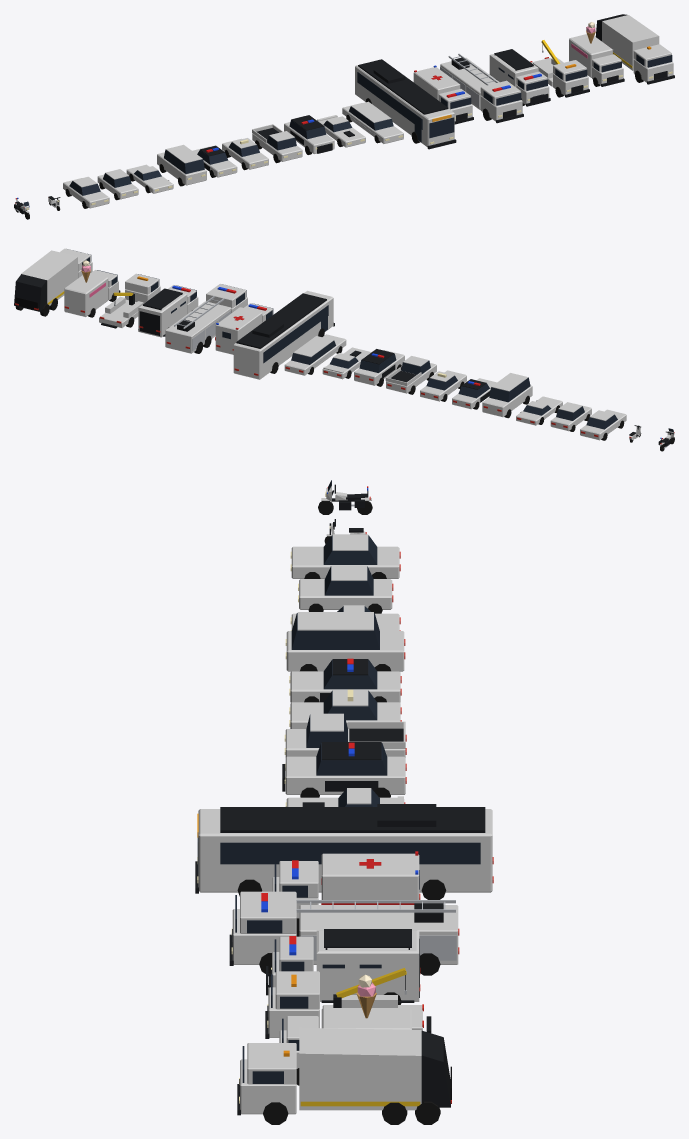
The model's file is vehicles.glb.
The picture shows the model from 3 angles, top to bottom: view 1: azimuth 30°, elevation 25°; view 2: azimuth 150°, elevation 25°; view 3: azimuth 270°, elevation 25°; orthographic projection. The views are drawn at different scales.
Parts seen in each view (by area): view 1: bus_body, garbage_truck_body, bus_roof, ice_cream_van_module, ambulance_module, firetruck_body, swat_body, bus_windows_R, limo_body, van_body, firetruck_cab, sports_body (+20 smaller); view 2: bus_body, garbage_truck_body, ice_cream_van_module, firetruck_body, bus_roof, ambulance_module, swat_body, garbage_truck_hopper, bus_windows_R, van_body, limo_body, firetruck_cabtop (+18 smaller); view 3: garbage_truck_body, bus_body, bus_roof, bus_windows_L, ambulance_module, swat_body, firetruck_body, police_suv_body, van_body, garbage_truck_hopper, firetruck_cabtop, compact_body (+17 smaller).
Part boxes in pixels (bbox=[...]): bus_body: bbox=[355, 65, 454, 146]; garbage_truck_body: bbox=[602, 15, 659, 70]; bus_roof: bbox=[358, 59, 448, 114]; ice_cream_van_module: bbox=[569, 34, 612, 77]; ambulance_module: bbox=[413, 67, 460, 100]; firetruck_body: bbox=[440, 57, 499, 109]; swat_body: bbox=[489, 49, 538, 87]; bus_windows_R: bbox=[357, 72, 422, 129]; limo_body: bbox=[342, 103, 403, 143]; van_body: bbox=[157, 152, 206, 185]; firetruck_cab: bbox=[480, 95, 522, 121]; sports_body: bbox=[126, 164, 173, 193]; bus_body: bbox=[233, 290, 333, 379]; garbage_truck_body: bbox=[21, 250, 77, 305]; ice_cream_van_module: bbox=[64, 273, 108, 316]; firetruck_body: bbox=[165, 301, 231, 353]; bus_roof: bbox=[236, 293, 326, 348]; ambulance_module: bbox=[215, 307, 262, 354]; swat_body: bbox=[138, 289, 187, 337]; garbage_truck_hopper: bbox=[14, 274, 46, 311]; bus_windows_R: bbox=[263, 305, 328, 363]; van_body: bbox=[482, 385, 532, 417]; limo_body: bbox=[284, 334, 346, 375]; firetruck_cabtop: bbox=[206, 283, 246, 308]; garbage_truck_body: bbox=[299, 1027, 421, 1110]; bus_body: bbox=[198, 809, 492, 892]; bus_roof: bbox=[220, 807, 485, 832]; bus_windows_L: bbox=[220, 842, 480, 864]; ambulance_module: bbox=[321, 853, 419, 899]; swat_body: bbox=[316, 930, 419, 1001]; firetruck_body: bbox=[299, 905, 458, 964]; police_suv_body: bbox=[285, 756, 405, 794]; van_body: bbox=[286, 631, 404, 671]; garbage_truck_hopper: bbox=[421, 1030, 450, 1107]; firetruck_cabtop: bbox=[240, 891, 296, 933]; compact_body: bbox=[299, 579, 392, 609].
Bounding box in the file's own units: 59.29 × 4.51 × 12.17.
